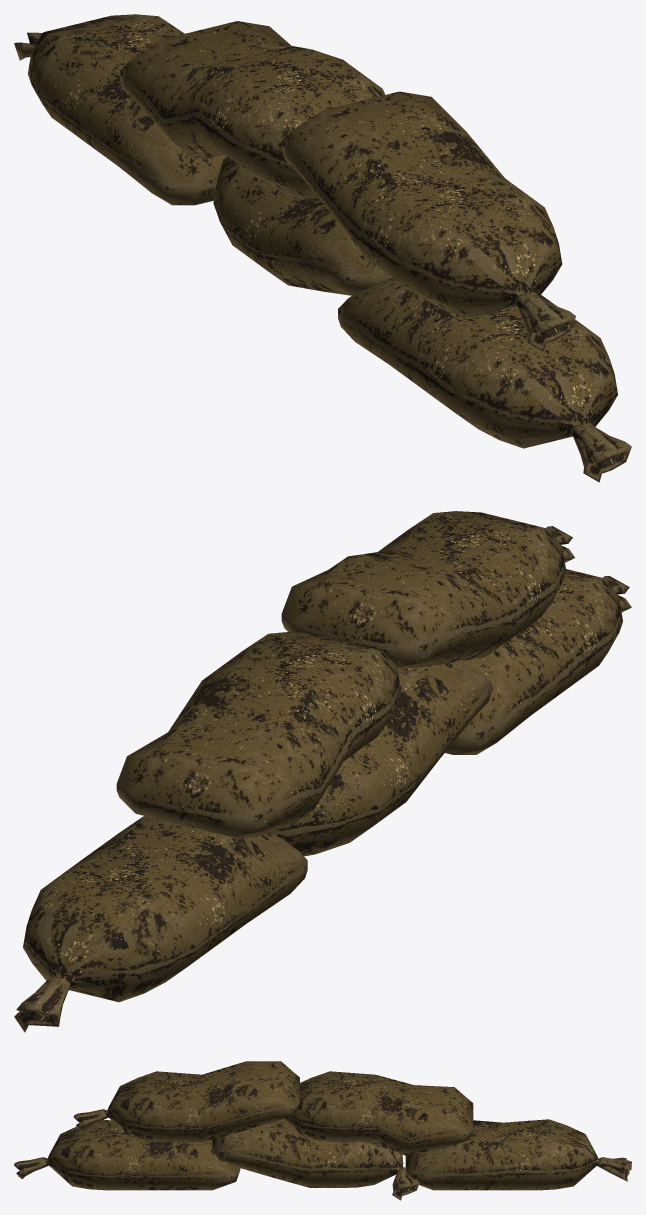
Rendered from bags_4.fbx.
3 views of the same model, one above another, from view 1: azimuth 30°, elevation 25°; view 2: azimuth 150°, elevation 25°; view 3: azimuth 270°, elevation 25° (orthographic). The views are drawn at different scales.
Visible parts, largest first — view 1: bags_4; view 2: bags_4; view 3: bags_4.
Part boxes in pixels (left/top/right/bottom): bags_4: left=14, top=14, right=631, bottom=482; bags_4: left=14, top=511, right=631, bottom=1032; bags_4: left=14, top=1061, right=631, bottom=1200.
Size of the model in its own units: 53.83 by 57.6 by 303.
Materials: 1 (1 with a texture image).
